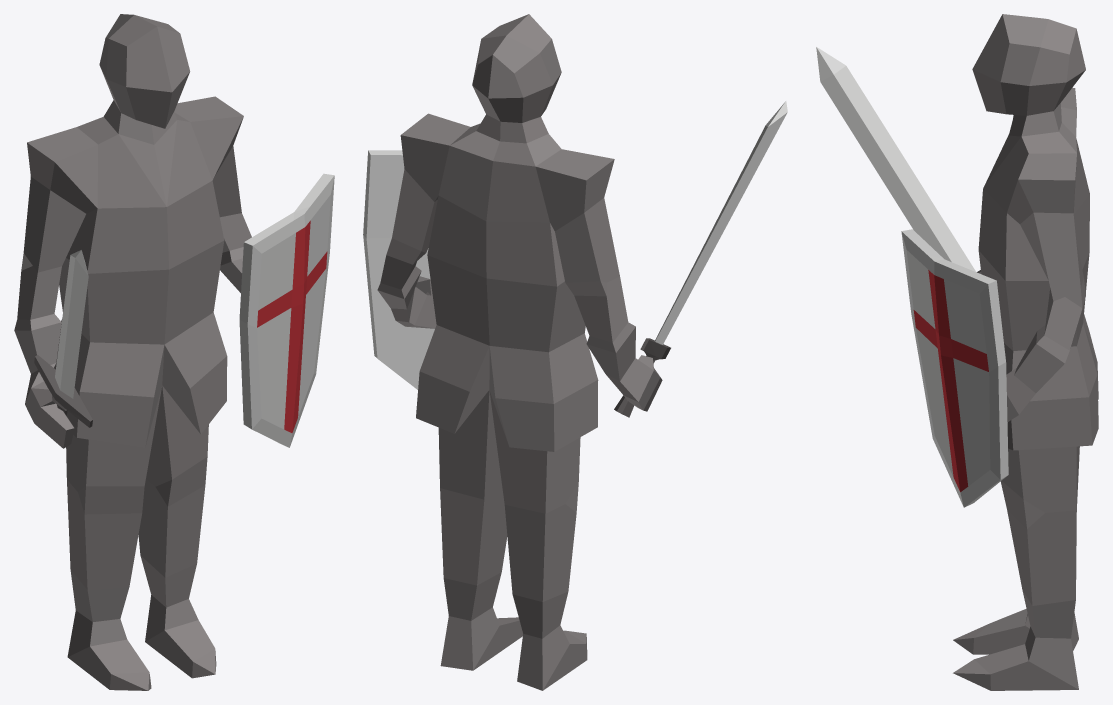
Rendered from man-knight-soldier.glb.
The picture shows the model from 3 angles, left to right: view 1: azimuth 30°, elevation 25°; view 2: azimuth 150°, elevation 25°; view 3: azimuth 270°, elevation 25°; orthographic projection. The views are drawn at different scales.
Parts seen in each view (by area): view 1: man-knight-soldier; view 2: man-knight-soldier; view 3: man-knight-soldier.
Part boxes in pixels (x1,y1,x2,y2): man-knight-soldier: (14, 14, 334, 690); man-knight-soldier: (363, 14, 787, 690); man-knight-soldier: (816, 14, 1098, 690).
Bounding box in the file's own units: 1.01 × 1.83 × 0.7191.
1 material, 1 textured.
